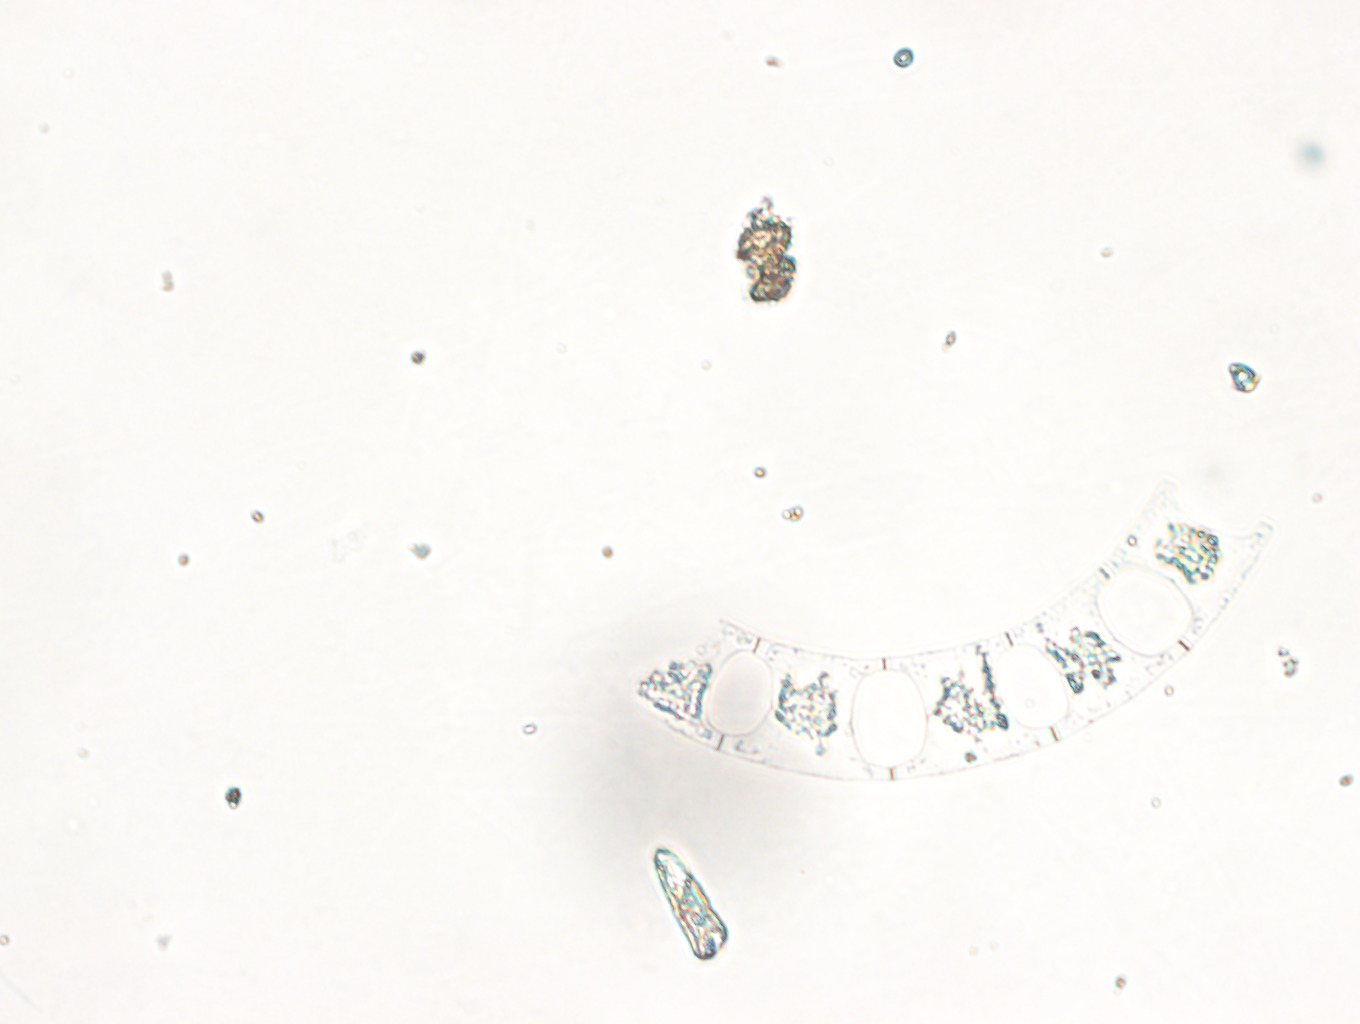eucampia: (645, 484, 1282, 787)
